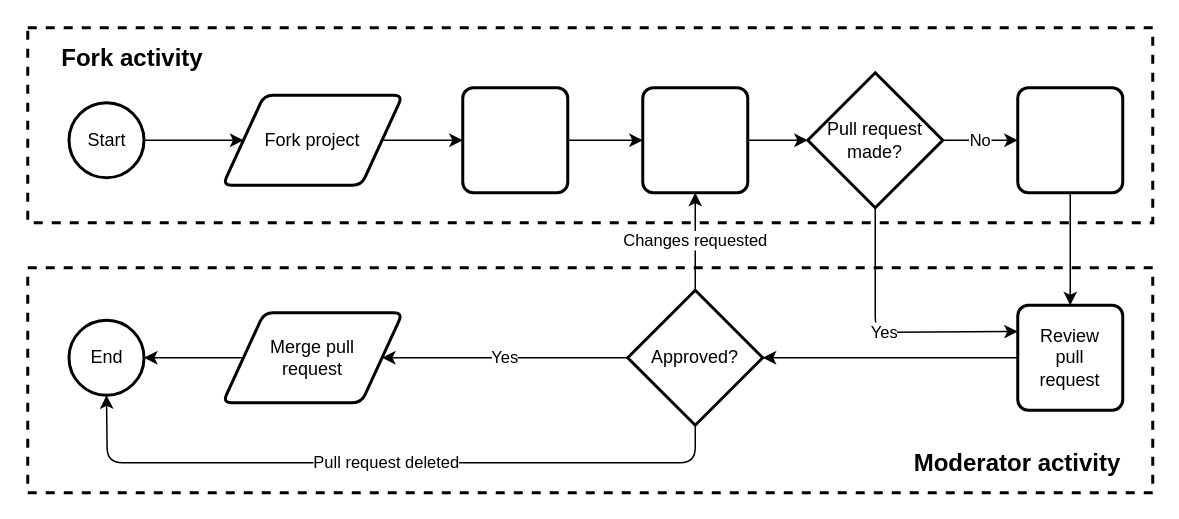
Some shapes in this 1179 by 519 pixel diagram are drawn without their labels. The centre of each missing label's shape, as x and y in pixels:
"Create branch" goes at point 514,140.
"Do pull request" goes at point 1070,140.
"Make commits" goes at point 694,140.
